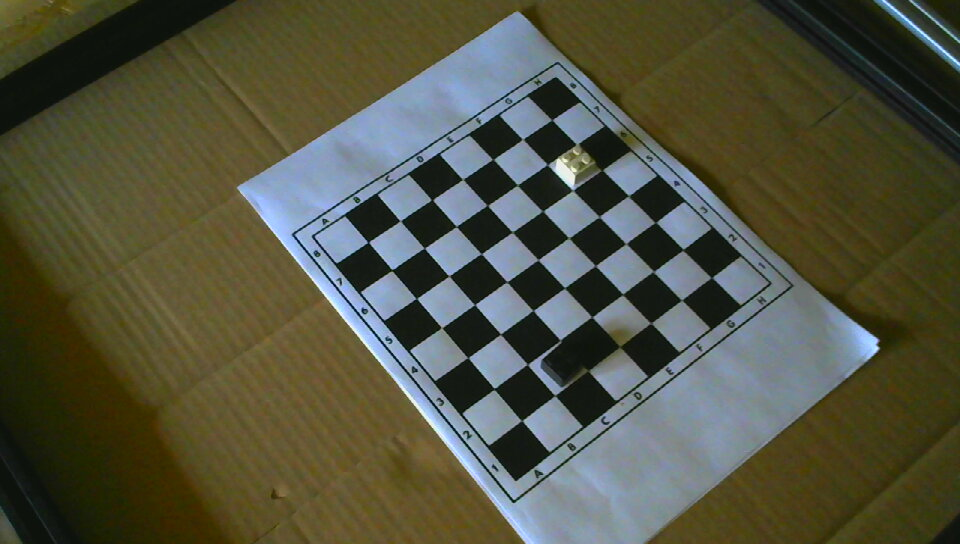bp: (540, 343, 585, 388)
wp: (554, 142, 598, 187)
